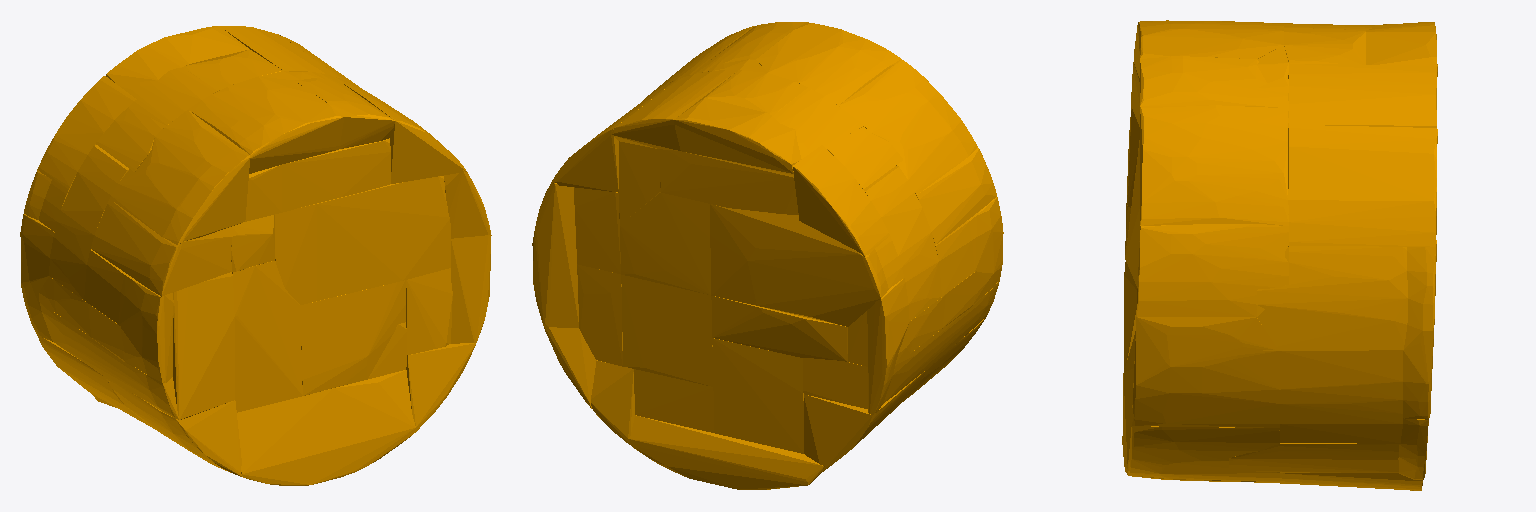
robot.urdf — can-large:
<?xml version="1.0" ?>
<robot name="can-large">
  <link name="baseLink">
    <contact>
      <lateral_friction value="1.0"/>
      <inertia_scaling value="3.0"/>
    </contact>
    <inertial>
      <origin rpy="0 0 0" xyz="0.000 0.000 0.000"/>
       <mass value=".1"/>
       <inertia ixx="1" ixy="0.0" ixz="0.0" iyy="1" iyz="0.0" izz="1"/>
    </inertial>
    <visual>
      <origin rpy="0 0 0" xyz="0 0 0"/>
      <geometry>
        <mesh filename="can/can-large_tuna.obj" scale="1.0 1.0 1.0"/>
      </geometry>
    </visual>
    <collision>
      <origin rpy="0 0 0" xyz="0 0 0"/>
      <geometry>
        <mesh filename="../collision/can/can-large_tuna.obj" scale="1.0 1.0 1.0"/>
      </geometry>
    </collision>
  </link>
</robot>
        

--- Facts derived from the render (not from the file) ---
3 views of the same robot in one strip: view 1: azimuth 30°, elevation 25°; view 2: azimuth 150°, elevation 25°; view 3: azimuth 270°, elevation 25° (orthographic).
Model can-large with 1 links and 0 joints (none), rooted at baseLink, posed every joint at zero.
Links seen in each view (by area): view 1: baseLink; view 2: baseLink; view 3: baseLink.
Boxes of the visible links, x1,y1,x2,y2 form: baseLink: (20, 26, 491, 485); baseLink: (532, 22, 1003, 489); baseLink: (1122, 20, 1437, 490).
Bounding box of the posed robot: 0.1008 × 0.0681 × 0.1017 m (x, y, z).
Meshes: 1 distinct files referenced, 1 mesh visuals loaded (1 OBJ).